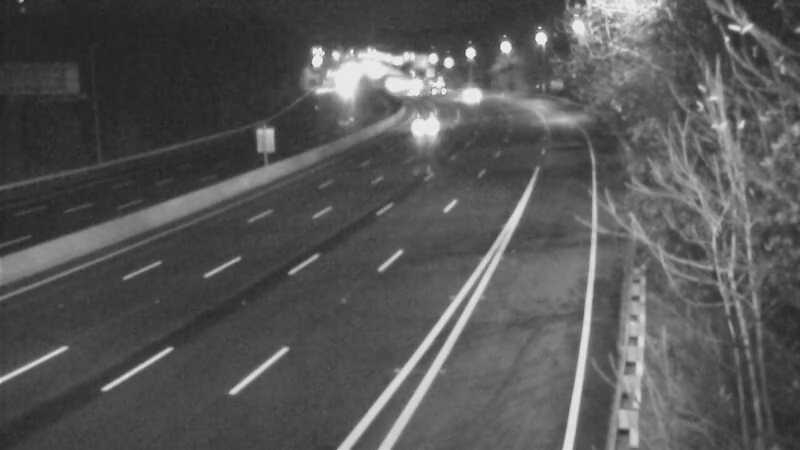vehicle: (413, 66, 463, 116), (385, 68, 435, 118), (438, 67, 488, 117), (395, 106, 445, 156)
